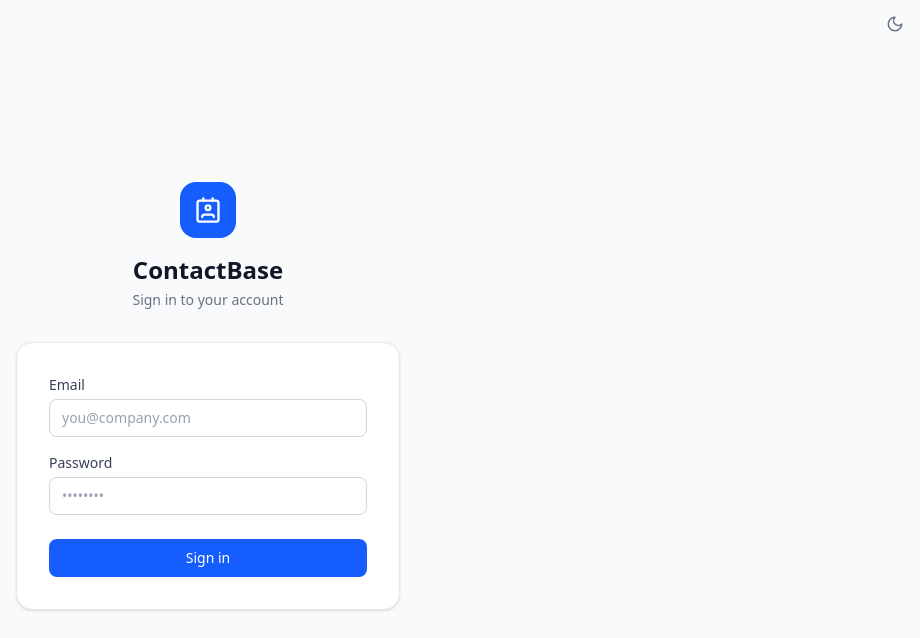
Test: LoginPage › shows validation error when password is empty
The width and height of the screenshot is (920, 638).
Type "admin@gigforge.ai" into the field labelled "Email".
click(208, 418); type("admin@gigforge.ai")  # box [49,399,367,437]
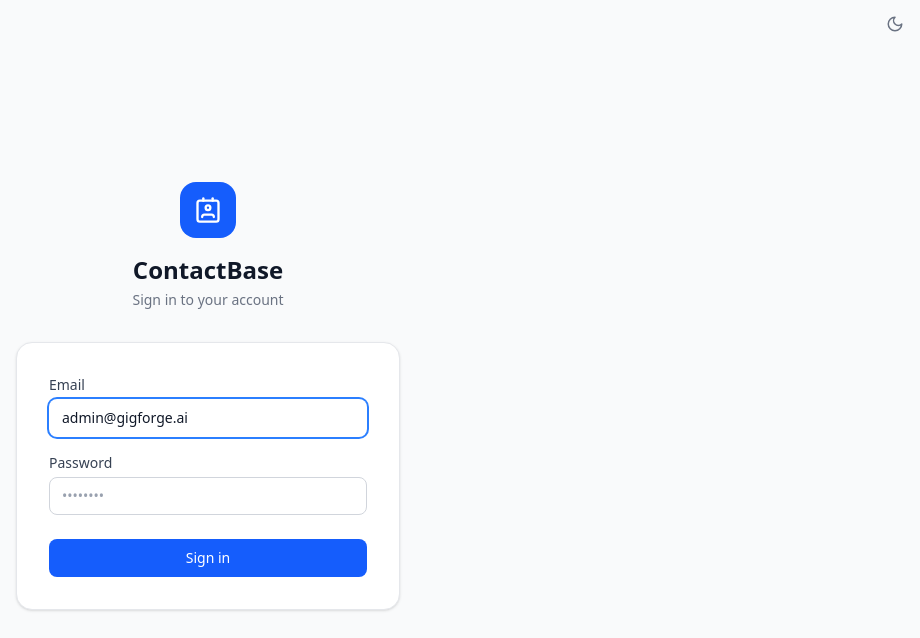
Click the button "Sign in".
click(208, 558)  # box [49,539,367,577]
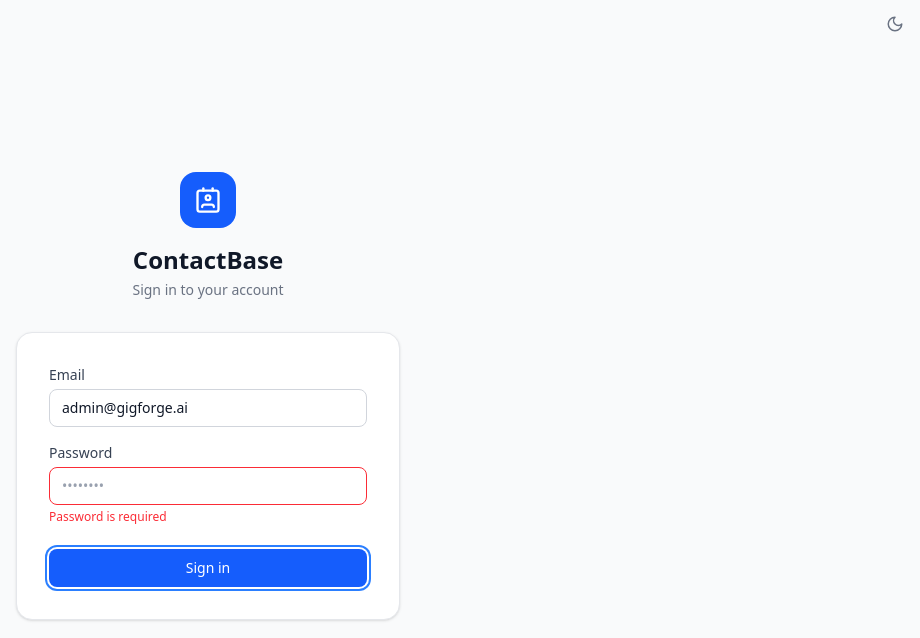
Now the text "Password is required" is shown, box [49,508,167,525]
